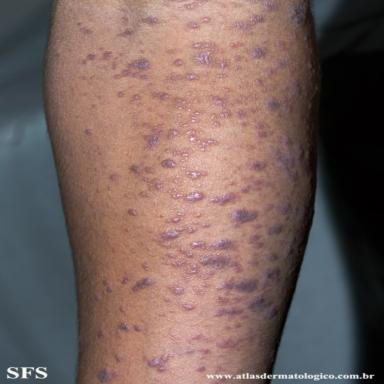lichen: (266, 133, 305, 180), (192, 42, 229, 69), (198, 253, 243, 273), (217, 278, 258, 296), (185, 129, 217, 152), (286, 0, 312, 27), (190, 238, 239, 252), (143, 123, 167, 151), (263, 201, 307, 215), (144, 353, 173, 372), (229, 209, 258, 228), (242, 295, 271, 313), (175, 110, 204, 128), (207, 87, 231, 108), (153, 227, 185, 242), (232, 15, 264, 30), (164, 147, 192, 163), (261, 266, 281, 288), (243, 42, 268, 59), (172, 259, 200, 274), (209, 191, 239, 205), (247, 0, 280, 11), (126, 56, 150, 71), (213, 307, 244, 318), (142, 177, 164, 192), (198, 269, 216, 287), (132, 277, 152, 292), (216, 338, 242, 349), (98, 368, 118, 382), (173, 97, 192, 111), (280, 81, 299, 95), (186, 349, 210, 360), (183, 0, 208, 10), (254, 123, 269, 139), (245, 161, 268, 171), (121, 270, 136, 284), (285, 236, 296, 255), (186, 191, 205, 202), (129, 165, 146, 177), (271, 56, 288, 68), (191, 333, 211, 343), (265, 225, 285, 235), (167, 211, 185, 222), (265, 97, 280, 110), (249, 235, 263, 248), (262, 307, 277, 319), (168, 283, 183, 295), (190, 283, 205, 295), (178, 248, 196, 258), (252, 180, 270, 190), (114, 69, 132, 79), (228, 99, 248, 108), (281, 96, 291, 113), (186, 171, 207, 179), (236, 94, 259, 101), (215, 296, 231, 306), (164, 0, 190, 6), (167, 73, 182, 83), (153, 92, 169, 101), (236, 78, 249, 89), (99, 51, 113, 61), (82, 54, 96, 64), (139, 17, 159, 24), (259, 85, 276, 93), (217, 110, 232, 119), (168, 175, 181, 185), (117, 29, 133, 37), (118, 322, 132, 331), (224, 323, 242, 330), (161, 159, 175, 168), (275, 41, 287, 51), (265, 253, 278, 262), (229, 41, 243, 49), (168, 129, 179, 139), (235, 109, 246, 119), (167, 187, 185, 193), (181, 274, 192, 283), (144, 166, 155, 175), (181, 304, 195, 311), (189, 210, 203, 217), (247, 106, 260, 113), (214, 1, 227, 8), (167, 48, 182, 54), (254, 78, 264, 87), (241, 185, 252, 193), (121, 14, 129, 25), (247, 258, 259, 265), (186, 73, 198, 80), (80, 28, 92, 35), (196, 365, 206, 373), (131, 95, 141, 103), (231, 2, 244, 8), (160, 241, 173, 247), (245, 143, 256, 150), (189, 219, 201, 225), (110, 173, 119, 181), (173, 59, 183, 66), (189, 22, 199, 29), (172, 193, 183, 199), (139, 191, 150, 197), (216, 73, 227, 79), (286, 32, 297, 38), (164, 253, 177, 258), (115, 354, 123, 362), (97, 330, 105, 338), (215, 365, 222, 374), (134, 325, 143, 332), (267, 68, 276, 75), (132, 122, 139, 131), (253, 223, 263, 229), (233, 65, 243, 71), (107, 285, 114, 293), (192, 97, 200, 104), (274, 110, 281, 118), (157, 312, 168, 317), (117, 329, 123, 338), (143, 262, 149, 271), (187, 227, 196, 233), (127, 209, 136, 215), (201, 17, 210, 23), (239, 314, 249, 319), (132, 72, 142, 77), (226, 181, 236, 186), (209, 113, 216, 120), (180, 164, 187, 171), (213, 121, 221, 127), (234, 55, 242, 61), (124, 192, 132, 198), (201, 223, 210, 228), (140, 74, 149, 79), (164, 297, 173, 302), (161, 260, 170, 265), (119, 306, 126, 312), (85, 129, 92, 135), (111, 246, 118, 252), (102, 279, 110, 284), (156, 213, 164, 218), (118, 91, 124, 97), (145, 229, 154, 233), (95, 294, 100, 301), (178, 5, 185, 10), (113, 61, 117, 69), (240, 121, 246, 126), (147, 107, 153, 112), (143, 122, 149, 127), (130, 248, 136, 253), (247, 30, 252, 36), (107, 186, 112, 191), (250, 253, 258, 256), (167, 85, 173, 89), (90, 104, 96, 108), (186, 91, 191, 95), (119, 53, 124, 57), (141, 49, 145, 54), (139, 40, 144, 44), (56, 53, 61, 57), (169, 309, 174, 313), (113, 57, 119, 60), (174, 243, 180, 246), (99, 47, 103, 51), (150, 361, 153, 366), (83, 77, 87, 80), (78, 23, 81, 25)
